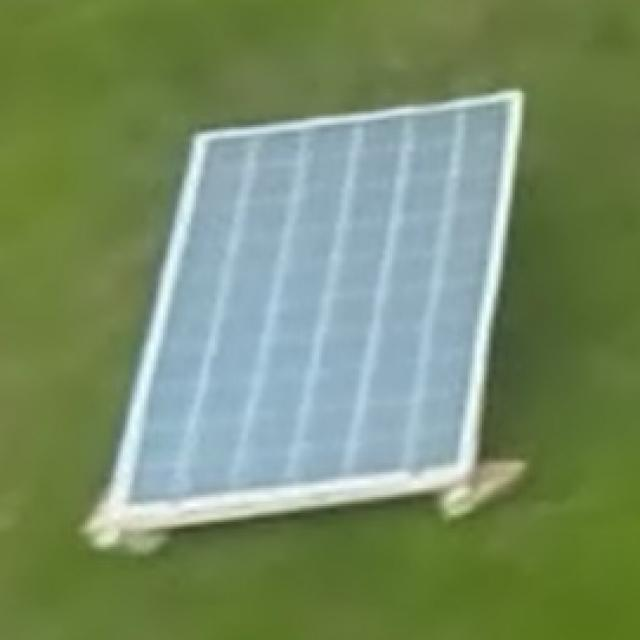no faulty: (128, 87, 506, 515)
